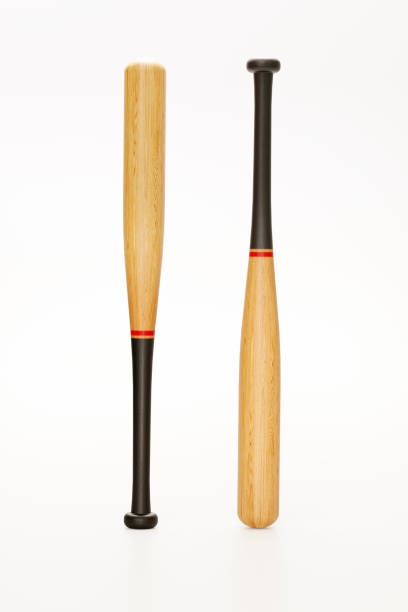bita: (232, 56, 289, 526), (112, 60, 169, 530)
